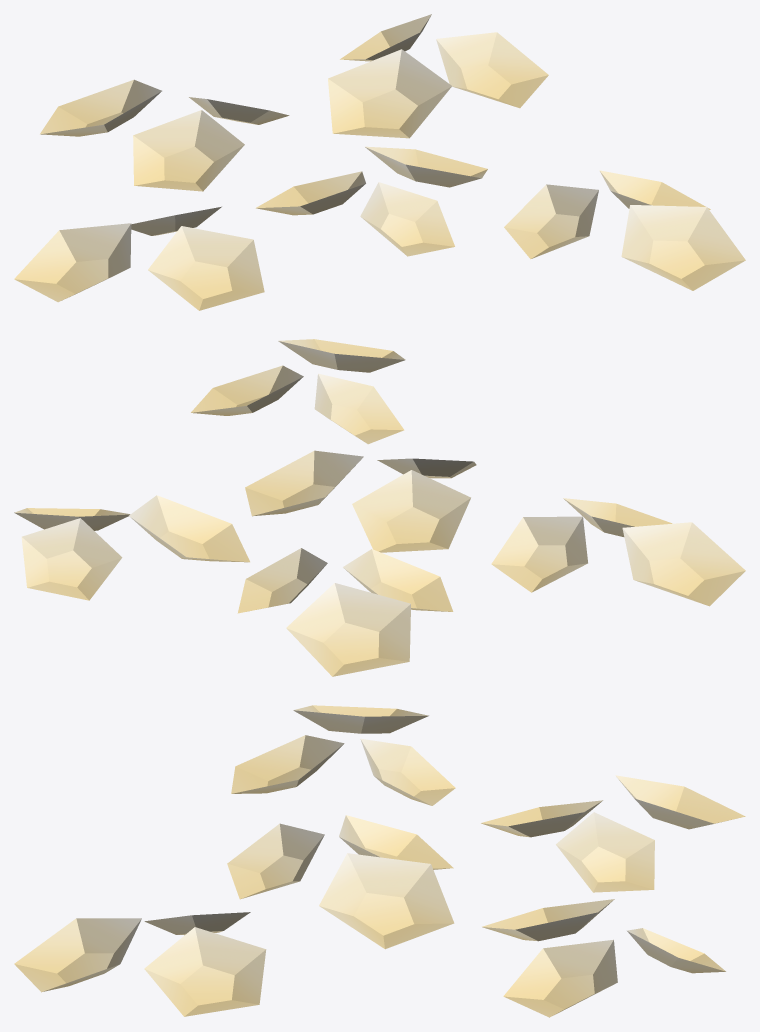
The model's file is Blumengruppe_K.glb.
The picture shows the model from 3 angles, top to bottom: view 1: azimuth 30°, elevation 25°; view 2: azimuth 150°, elevation 25°; view 3: azimuth 270°, elevation 25°; orthographic projection. The views are drawn at different scales.
Visible parts, largest first — view 1: Cylinder.005; view 2: Cylinder.005; view 3: Cylinder.005.
Boxes of the visible parts, left/top/right/bottom form: Cylinder.005: left=14, top=14, right=745, bottom=310; Cylinder.005: left=14, top=339, right=745, bottom=676; Cylinder.005: left=14, top=705, right=745, bottom=1017.
Bounding box in the file's own units: 2.14 × 0.1634 × 2.12.
1 material, 1 textured.
